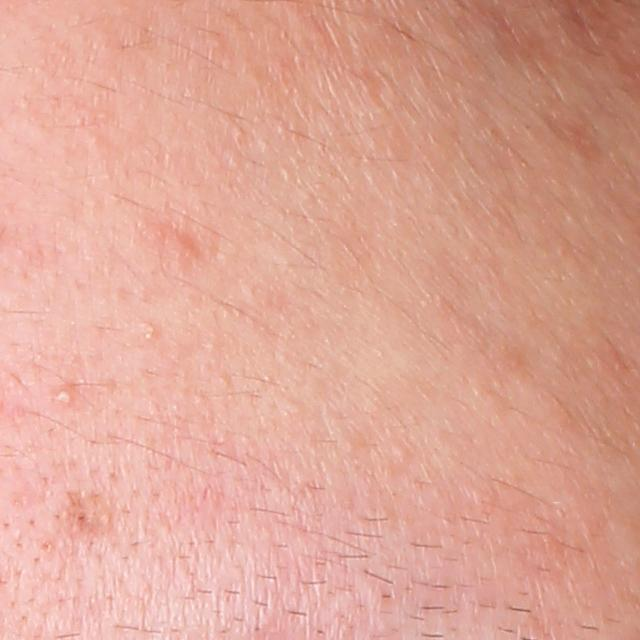comedo: (138, 317, 161, 342)
pustule: (51, 383, 82, 409)
